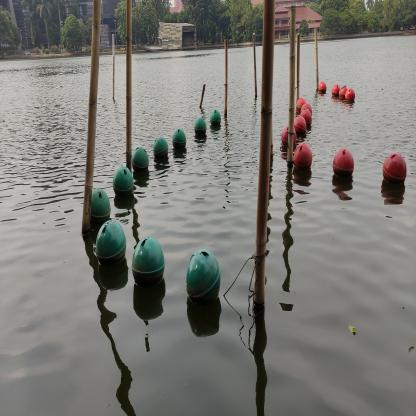green_buoy: (186, 248, 221, 308), (131, 234, 166, 288), (95, 220, 127, 266), (112, 164, 135, 198), (90, 188, 110, 223), (132, 147, 150, 174), (153, 136, 169, 162), (172, 128, 187, 152), (194, 117, 207, 139), (209, 109, 222, 128)
red_buoy: (382, 152, 407, 186), (332, 147, 354, 180), (293, 142, 313, 172), (281, 125, 297, 149), (294, 115, 307, 137), (300, 108, 312, 128), (344, 87, 356, 103), (296, 96, 306, 114), (300, 102, 312, 117), (318, 81, 328, 95), (338, 86, 348, 100), (332, 84, 340, 98)
